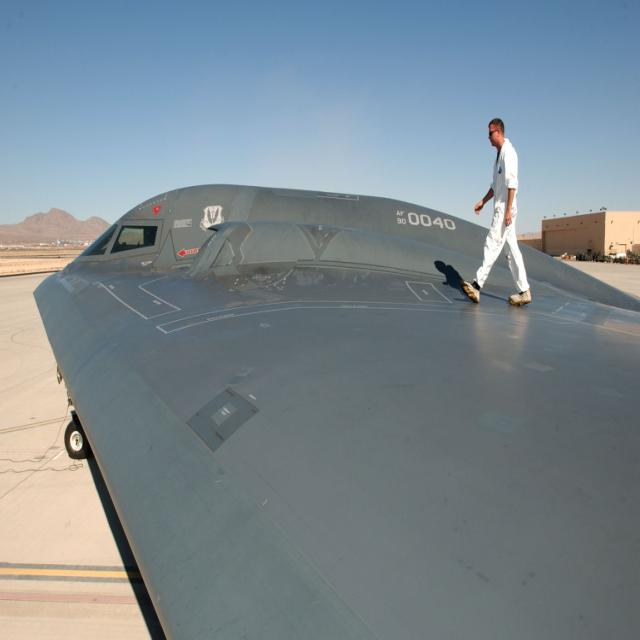MIL_Plane: (32, 182, 639, 640)
